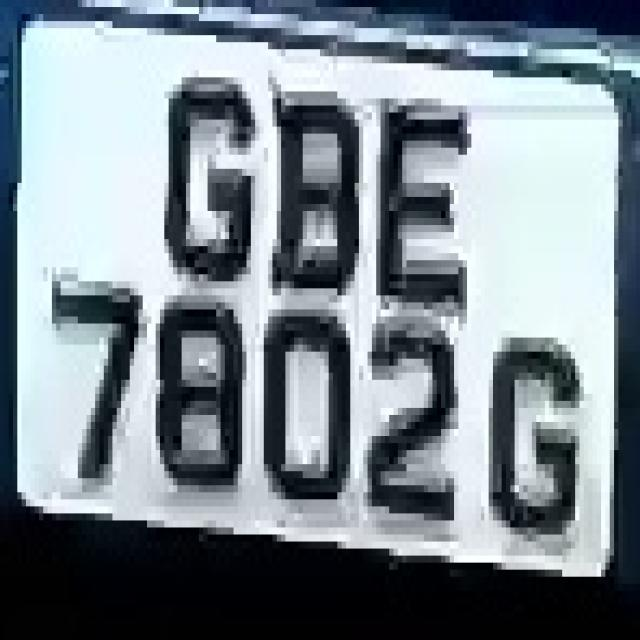0: (250, 302, 354, 514)
2: (354, 281, 458, 549)
7: (35, 232, 147, 499)
8: (143, 274, 251, 520)
B: (268, 78, 368, 302)
E: (363, 85, 476, 302)
G: (471, 316, 588, 584), (156, 50, 255, 282)
